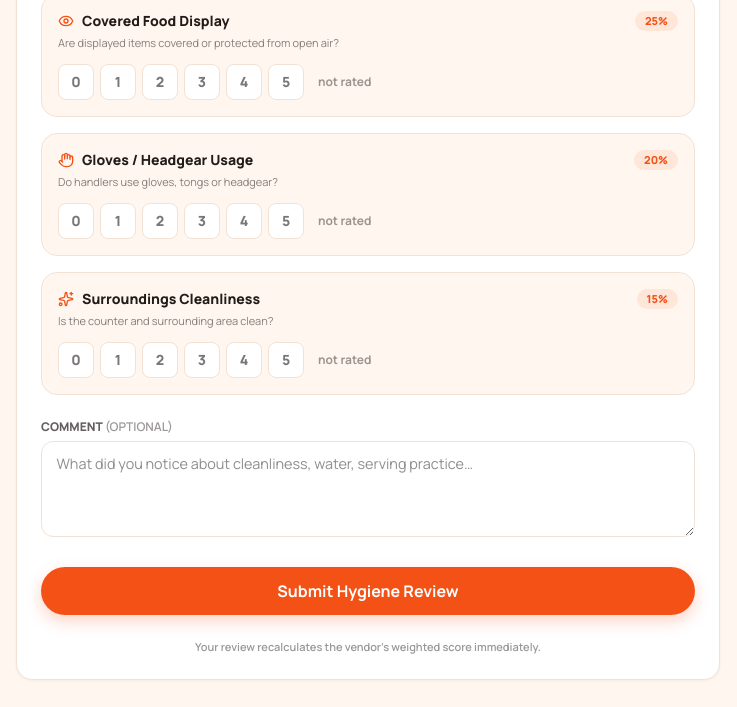
Test: HygieneReview › blocks submission when name, stars or criteria are missing
The image size is (737, 707).
(page scrolled)
Click the button "Submit Hygiene Review": (368, 591) [41,567,695,615]
(page scrolled)
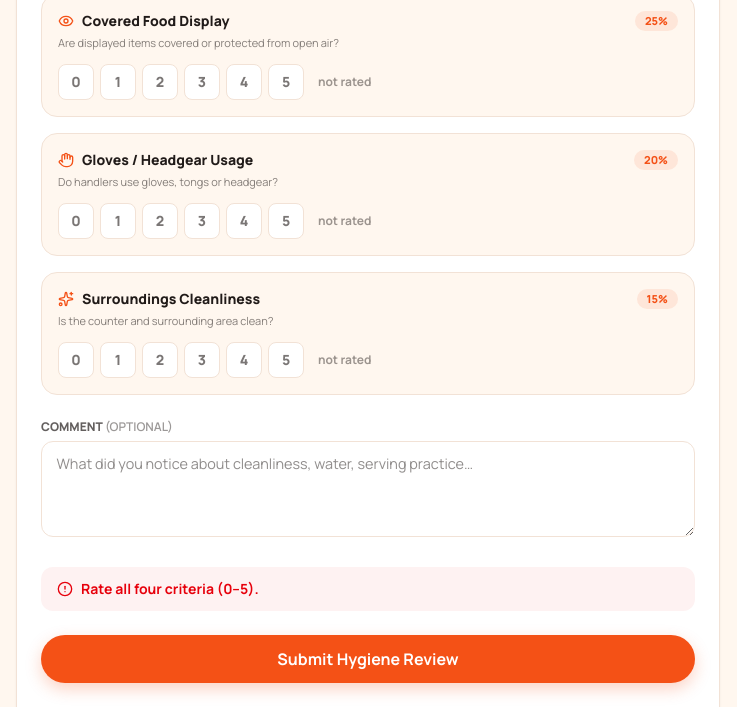
expect the text "Rate all four criteria (0–5)." is shown: met, box [41,567,695,611]
